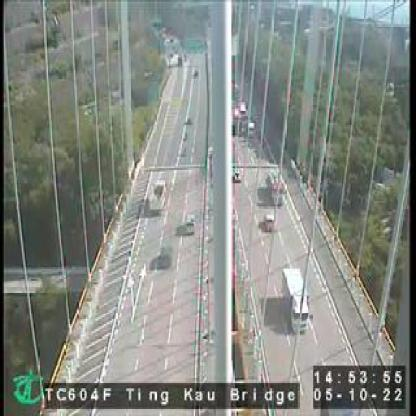Car: (156, 248, 172, 267), (263, 213, 277, 234), (183, 213, 194, 234)
Truck: (279, 267, 307, 331), (268, 170, 284, 204), (148, 180, 164, 212)
